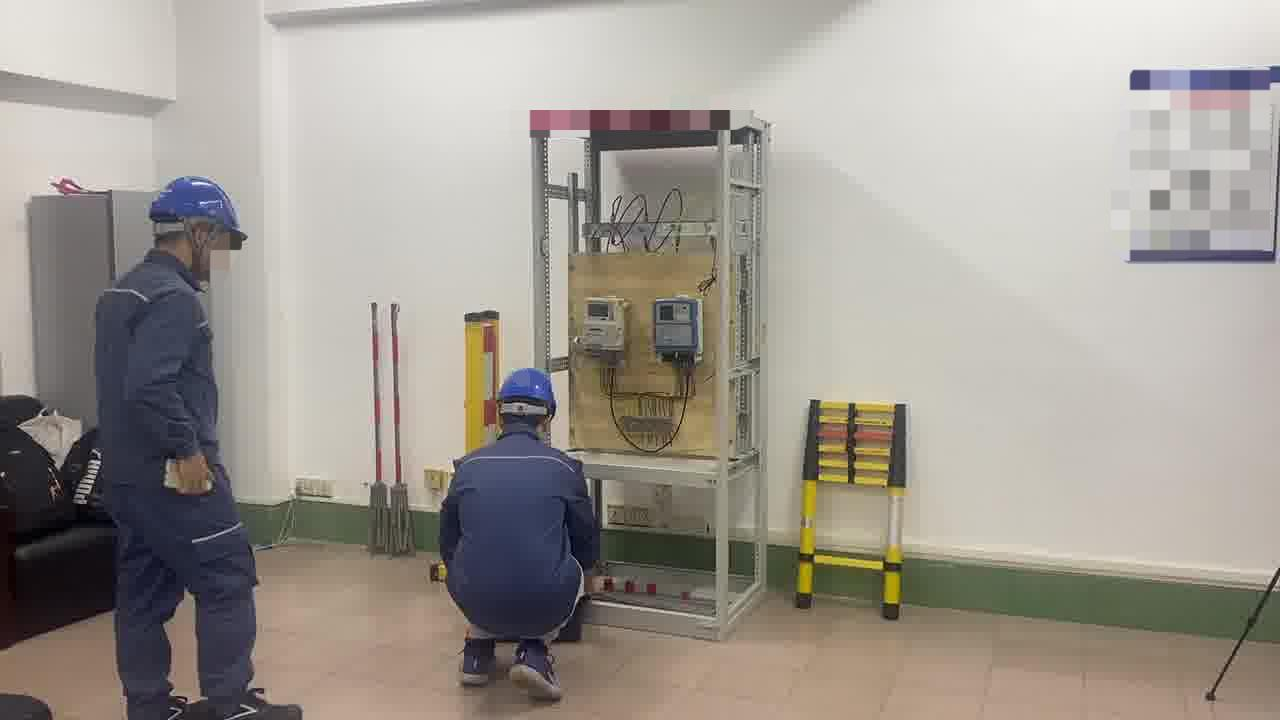halt: (150, 178, 248, 278), (499, 369, 561, 435)
inear: (183, 221, 218, 267)
